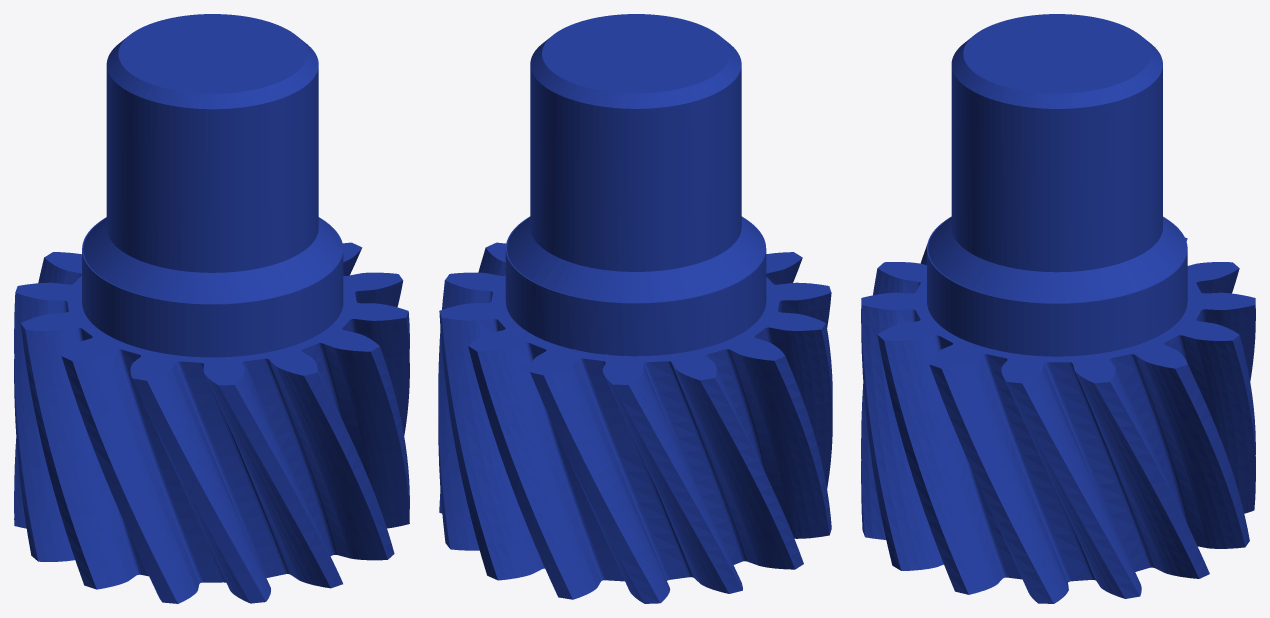
File: smallGear_blue.dae
3 renders of one model, left to right at view 1: azimuth 30°, elevation 25°; view 2: azimuth 150°, elevation 25°; view 3: azimuth 270°, elevation 25°, orthographic.
Visible parts, largest first — view 1: _c644462798684196e00a6f8; view 2: _c644462798684196e00a6f8; view 3: _c644462798684196e00a6f8.
Part boxes in pixels (x1,y1,x2,y2): _c644462798684196e00a6f8: [14, 14, 409, 603]; _c644462798684196e00a6f8: [438, 14, 832, 603]; _c644462798684196e00a6f8: [861, 14, 1255, 603].
Bounding box in the file's own units: 0.0339 × 0.0339 × 0.0442.
